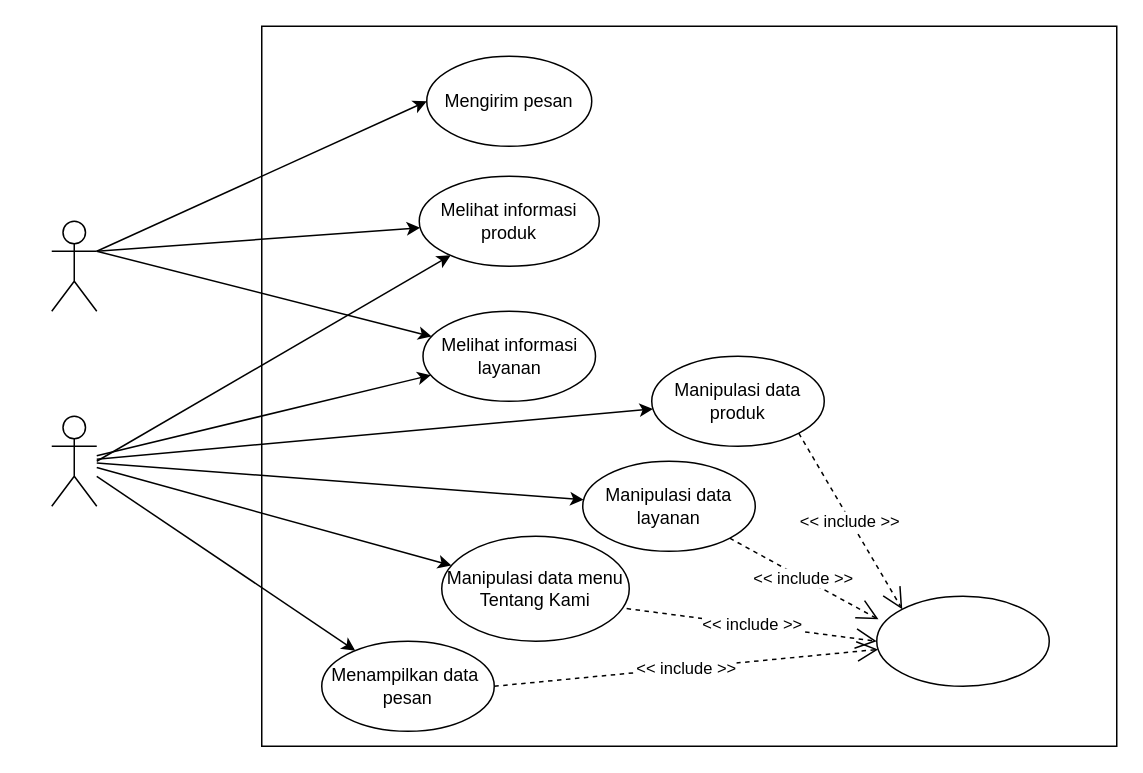
The diagram is 1143 pixels wide and 773 high, and some of its shapes have lost their labels. The centre of each missing label's shape, as x and y in pixels:
"Admin" belongs at (x=73, y=460).
"Login" belongs at (x=962, y=640).
"Pengunjung" belongs at (x=73, y=265).
